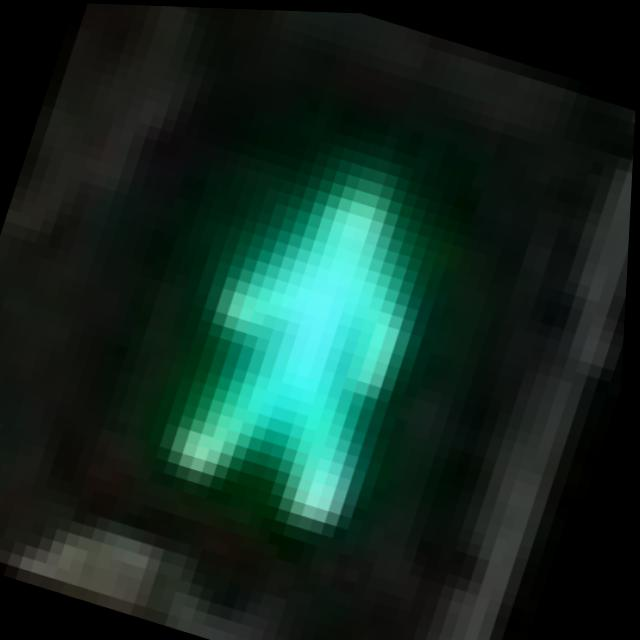green_light: (84, 53, 583, 596)
